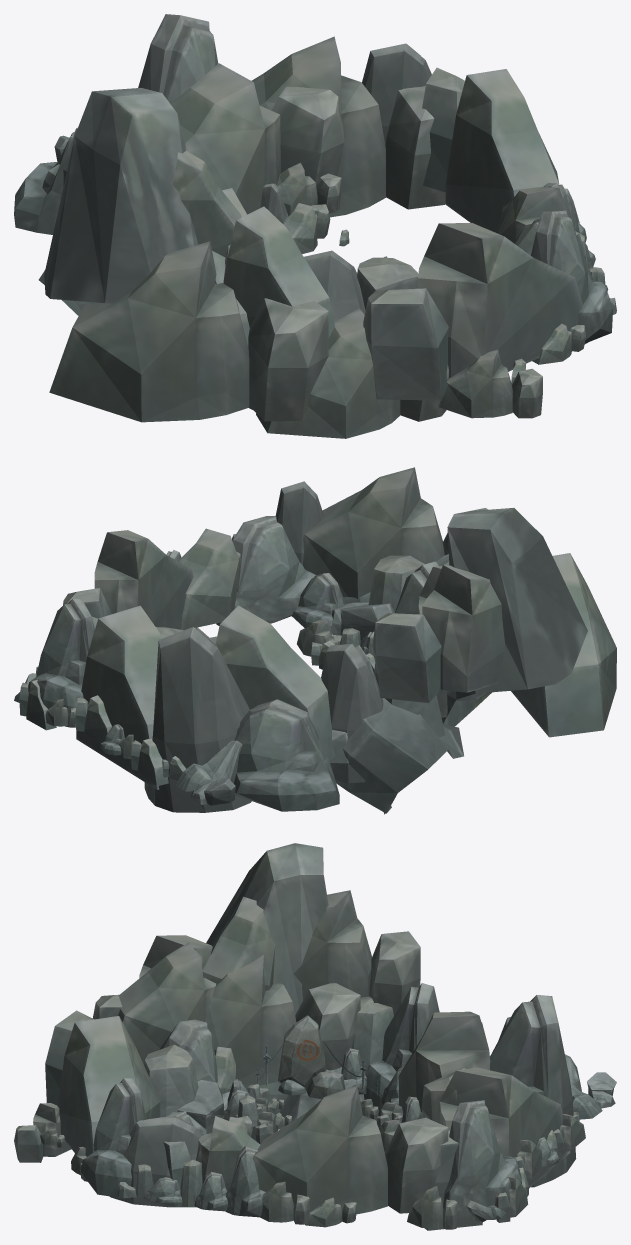
File: Area_04_1.fbx
The picture shows the model from 3 angles, top to bottom: view 1: azimuth 30°, elevation 25°; view 2: azimuth 150°, elevation 25°; view 3: azimuth 270°, elevation 25°; orthographic projection. The views are drawn at different scales.
Visible parts, largest first — view 1: Area_04_1; view 2: Area_04_1; view 3: Area_04_1.
Part boxes in pixels (box(x1,y1,x2,y2)): Area_04_1: box(14, 14, 616, 438); Area_04_1: box(14, 467, 616, 814); Area_04_1: box(14, 843, 616, 1230).
Bounding box in the file's own units: 10355 × 6157 × 11914.
